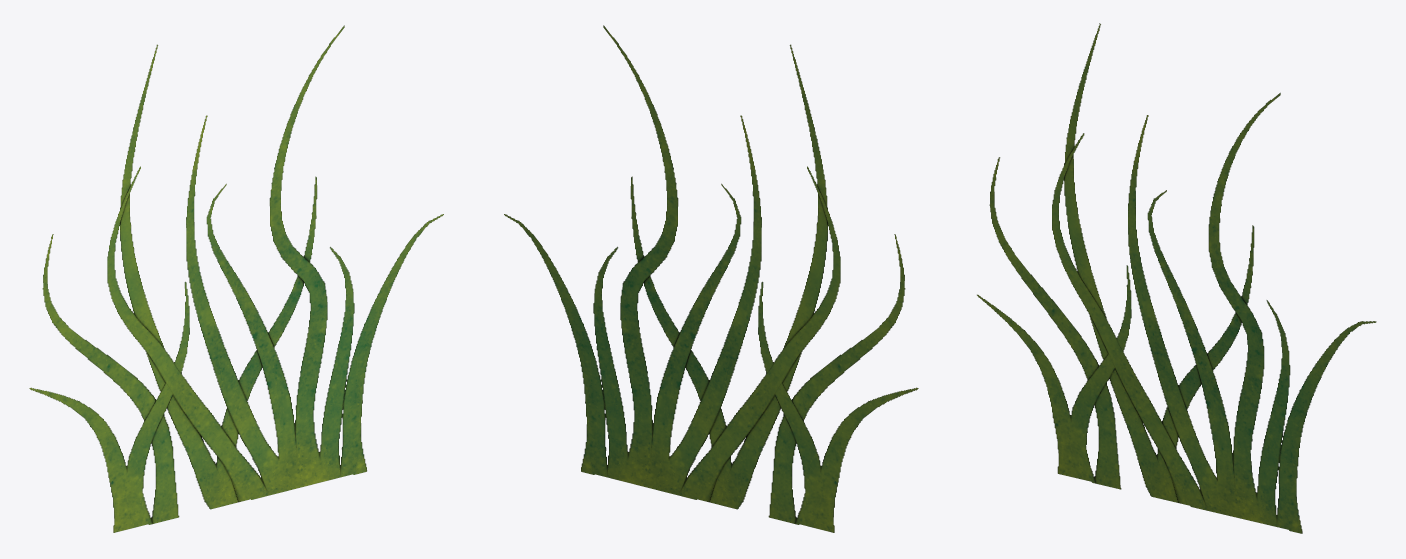
File: Terrain_Grass_01.fbx
3 renders of one model, left to right at view 1: azimuth 30°, elevation 25°; view 2: azimuth 150°, elevation 25°; view 3: azimuth 330°, elevation 25°, orthographic. The views are drawn at different scales.
Parts seen in each view (by area): view 1: Grass_01; view 2: Grass_01; view 3: Grass_01.
Part boxes in pixels (x1,y1,x2,y2): Grass_01: (29, 25, 443, 532); Grass_01: (504, 25, 918, 532); Grass_01: (977, 23, 1376, 533).
Bounding box in the file's own units: 0.00959 × 0.0102 × 1.22e-06.
